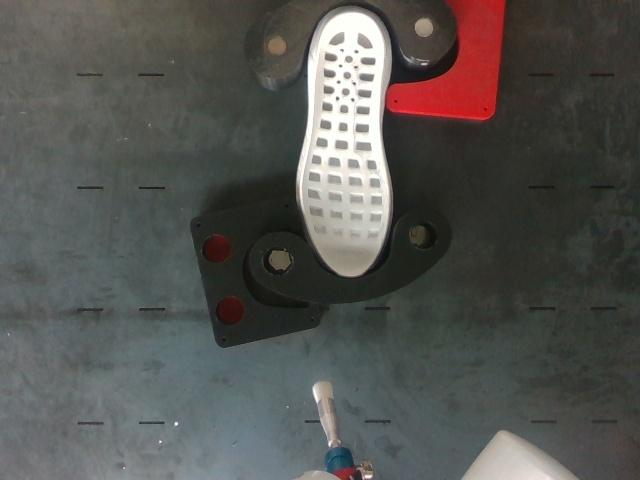shoes: (300, 11, 390, 277)
